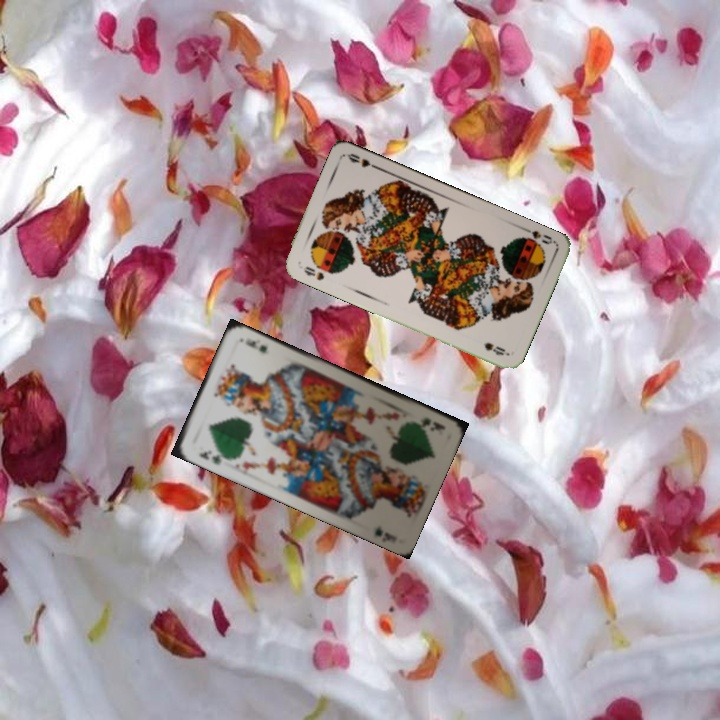GK: (195, 446, 229, 467), (416, 413, 448, 433)
SO: (515, 223, 557, 250), (300, 262, 327, 283)
